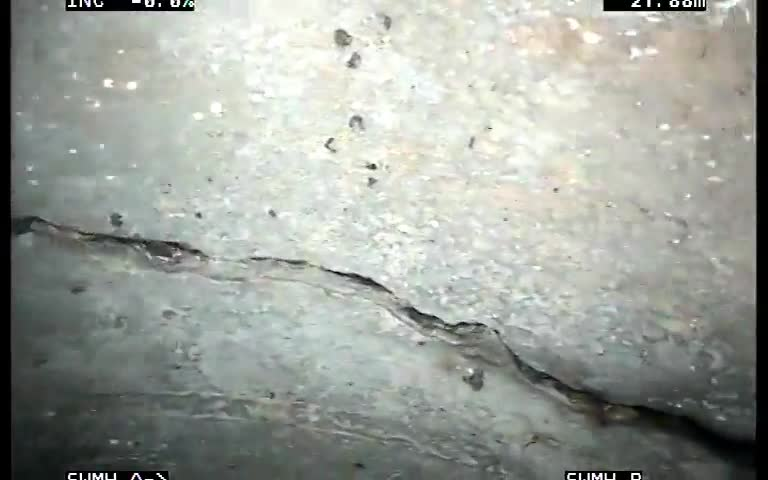Crack: (16, 185, 726, 458)
